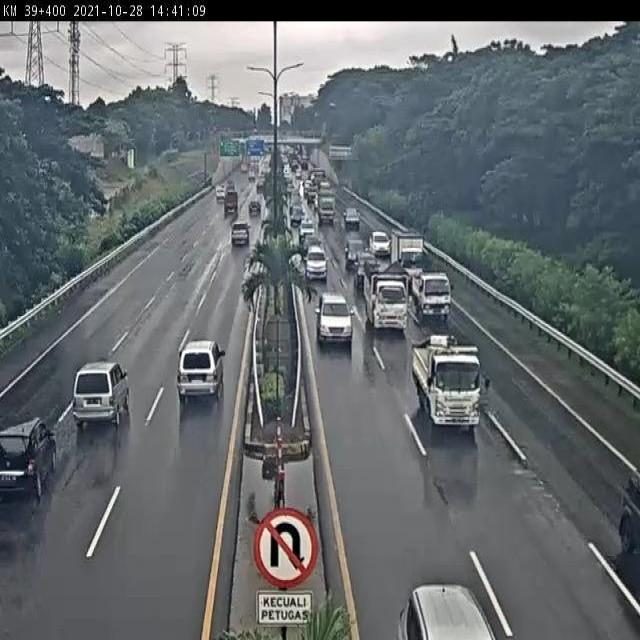car: (315, 292, 353, 348), (353, 252, 379, 284)
mid truck: (0, 413, 58, 500), (71, 363, 131, 424), (176, 340, 224, 401)
truck-m-: (411, 330, 482, 430), (362, 268, 409, 333)
truck-s-: (412, 269, 452, 323), (390, 228, 426, 281)
